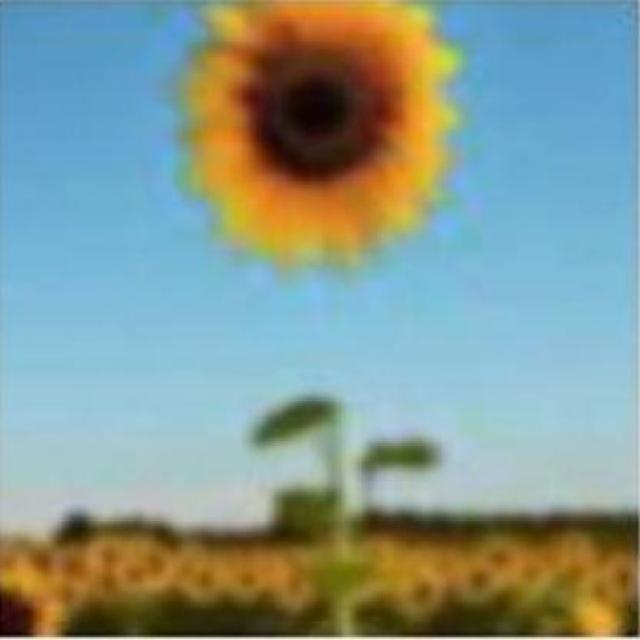sunflower: (160, 0, 478, 269)
